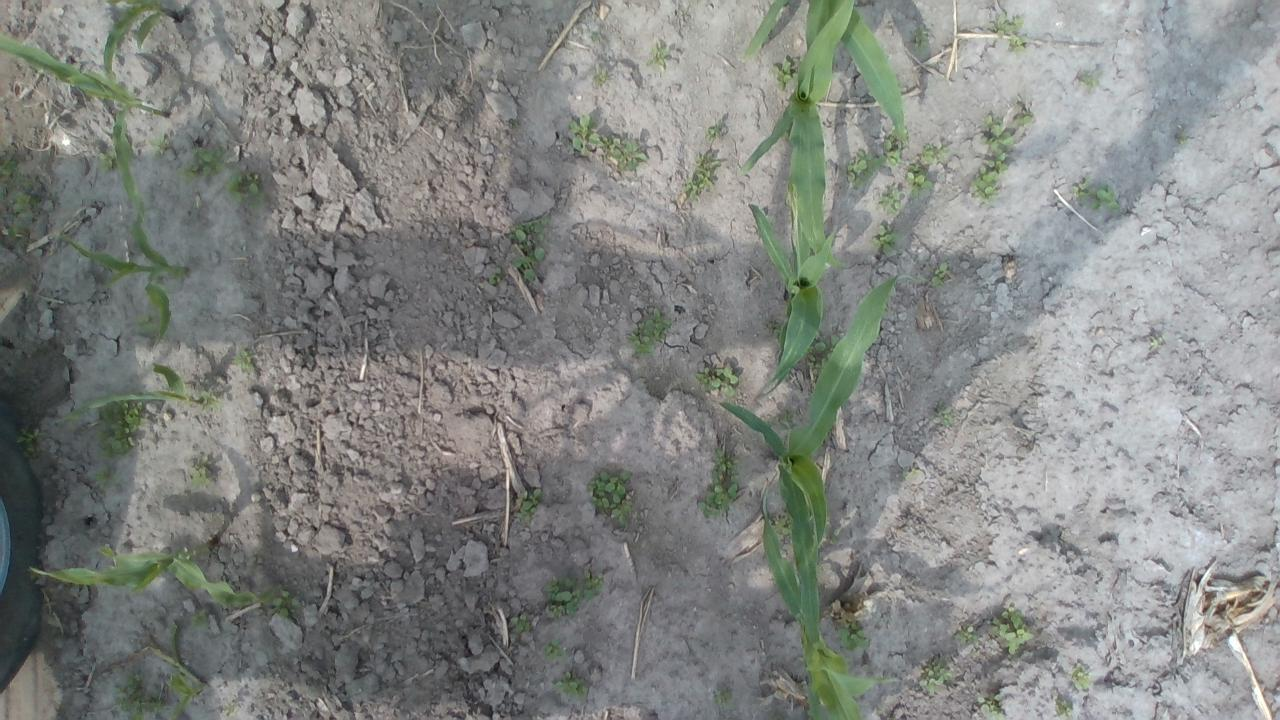Maize: (720, 271, 921, 648), (754, 483, 896, 720), (0, 29, 170, 213), (738, 0, 852, 269), (742, 0, 906, 144), (751, 172, 842, 393), (54, 214, 186, 349), (29, 545, 268, 608), (50, 369, 207, 425), (96, 0, 180, 78)
Weeds: (971, 114, 1012, 204), (93, 397, 150, 458), (114, 667, 170, 720), (696, 448, 736, 520), (586, 468, 636, 524), (0, 151, 41, 219), (623, 307, 669, 359), (990, 604, 1036, 656), (174, 145, 226, 183), (681, 150, 720, 200), (838, 148, 884, 190), (600, 134, 649, 172), (226, 172, 267, 212), (544, 574, 583, 616), (1070, 177, 1121, 209), (694, 364, 738, 400), (806, 332, 840, 376), (918, 655, 953, 696), (511, 242, 546, 282), (567, 114, 600, 155), (550, 669, 588, 703), (506, 214, 550, 242), (268, 586, 304, 618), (902, 160, 932, 198), (884, 124, 910, 166), (838, 620, 872, 652), (16, 424, 44, 462), (771, 56, 800, 91), (512, 488, 540, 523), (874, 184, 901, 218), (974, 694, 1009, 720), (4, 218, 32, 250), (870, 224, 899, 254), (988, 11, 1022, 36), (188, 454, 212, 488), (232, 346, 258, 376), (1068, 660, 1092, 692), (92, 464, 119, 492), (1050, 689, 1074, 720), (641, 43, 670, 68), (770, 408, 799, 432), (922, 142, 952, 164), (909, 24, 930, 55), (582, 570, 604, 598), (932, 400, 954, 428), (150, 132, 172, 160), (713, 686, 735, 712), (954, 623, 981, 644), (542, 640, 565, 663), (1007, 109, 1033, 129), (1078, 66, 1101, 88), (704, 119, 726, 142), (137, 312, 160, 334), (188, 609, 212, 630), (771, 514, 792, 537), (930, 263, 950, 287), (510, 613, 531, 634), (98, 150, 116, 172), (591, 63, 608, 86), (199, 389, 219, 408), (766, 318, 784, 337), (1006, 36, 1024, 52), (487, 266, 503, 284), (900, 466, 919, 478), (1149, 336, 1163, 351), (829, 528, 842, 542), (1177, 131, 1188, 145), (588, 29, 598, 42), (27, 568, 37, 580), (511, 121, 523, 131), (692, 0, 698, 3)
